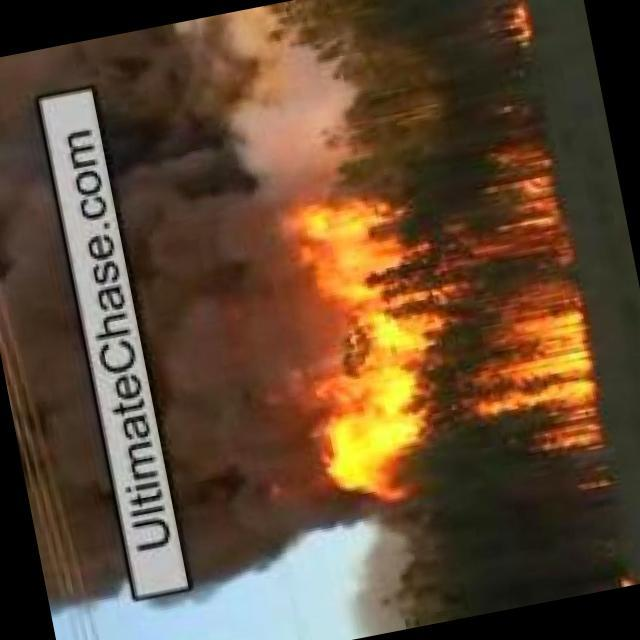Fire: (269, 146, 616, 512), (488, 1, 534, 51)
